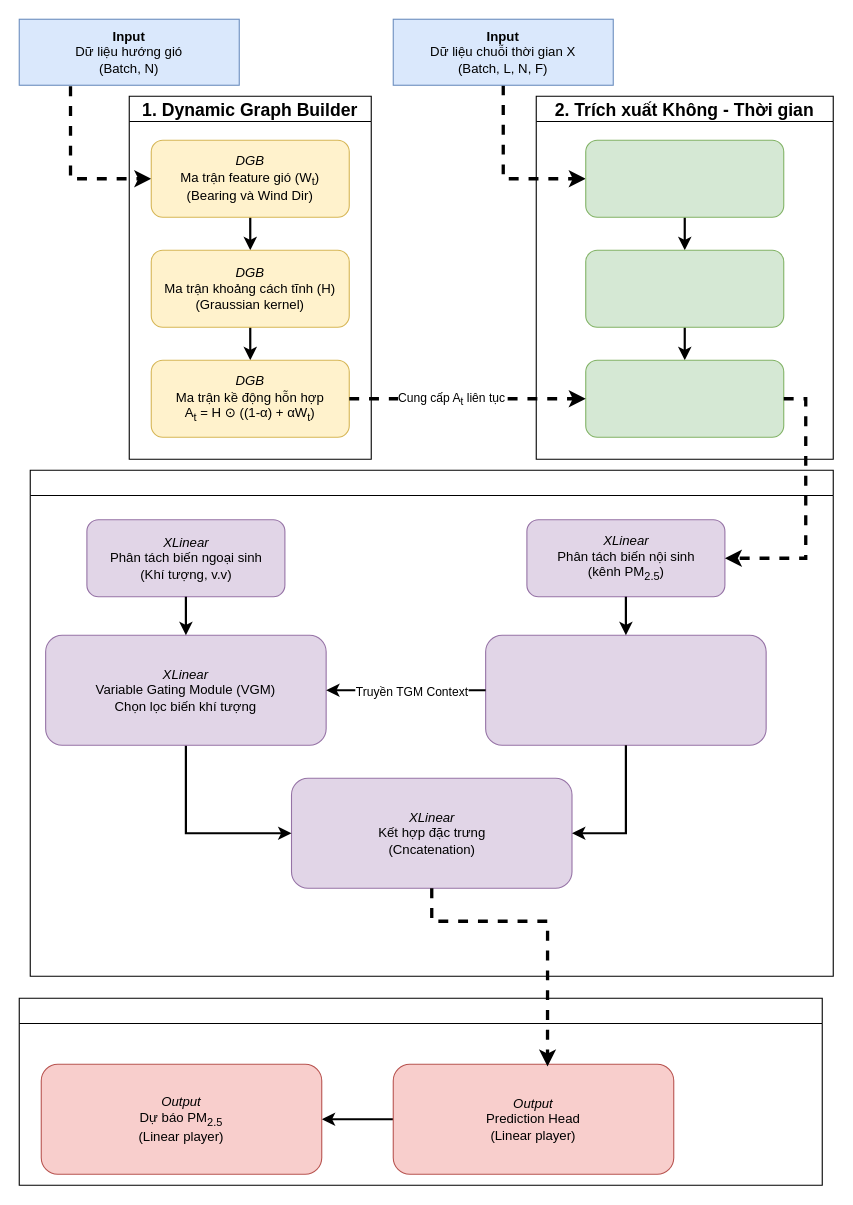
The diagram is 853 pixels wide and 1205 high, and some of its shapes have lost their labels. The shapes that lost their labels are listed below. From the top down, each one's box as (x1, y1, x2, y2) in pixels, then its label:
(585, 139, 784, 217): Spatial Temporal Embedding (Per-channel Projection)
(585, 249, 784, 327): Spatial Attention Pooling (Tính Node Summary)
(585, 359, 784, 437): Spatial Spatial Graph Convolution (Tạo Spatial Global Token)
(485, 634, 766, 745): XLinear Time-wise Gating Module (TGM) Kết hợp thông tin PM 2.5
(29, 469, 833, 976): 3. XLinear Backbone
(18, 997, 822, 1185): 4. Prediction
